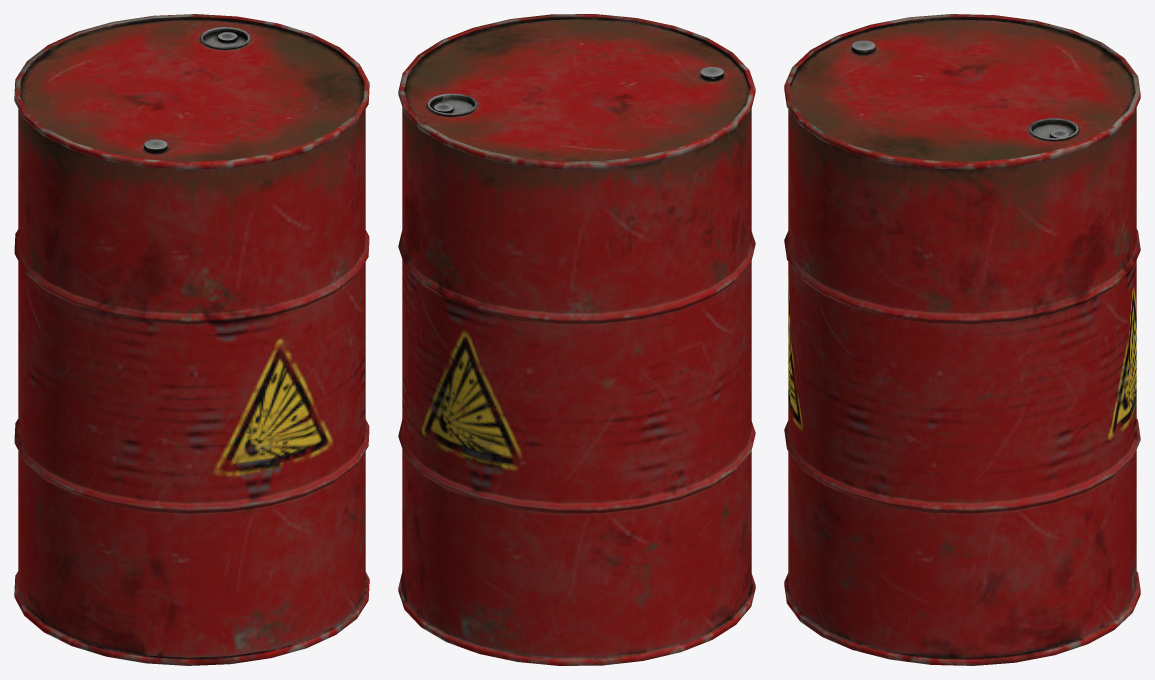
Rendered from Barrel_01.glb.
3 renders of one model, left to right at view 1: azimuth 30°, elevation 25°; view 2: azimuth 150°, elevation 25°; view 3: azimuth 270°, elevation 25°, orthographic.
Parts seen in each view (by area): view 1: Barrel_01; view 2: Barrel_01; view 3: Barrel_01.
Part boxes in pixels (bbox=[...]): Barrel_01: bbox=[14, 14, 369, 665]; Barrel_01: bbox=[398, 14, 755, 665]; Barrel_01: bbox=[784, 14, 1140, 665].
Size of the model in its own units: 0.563 by 0.88 by 0.563.
1 material, 1 textured.
